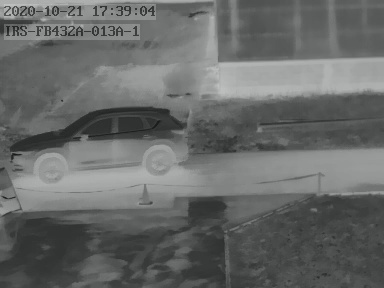vehicle: (12, 107, 186, 181)
